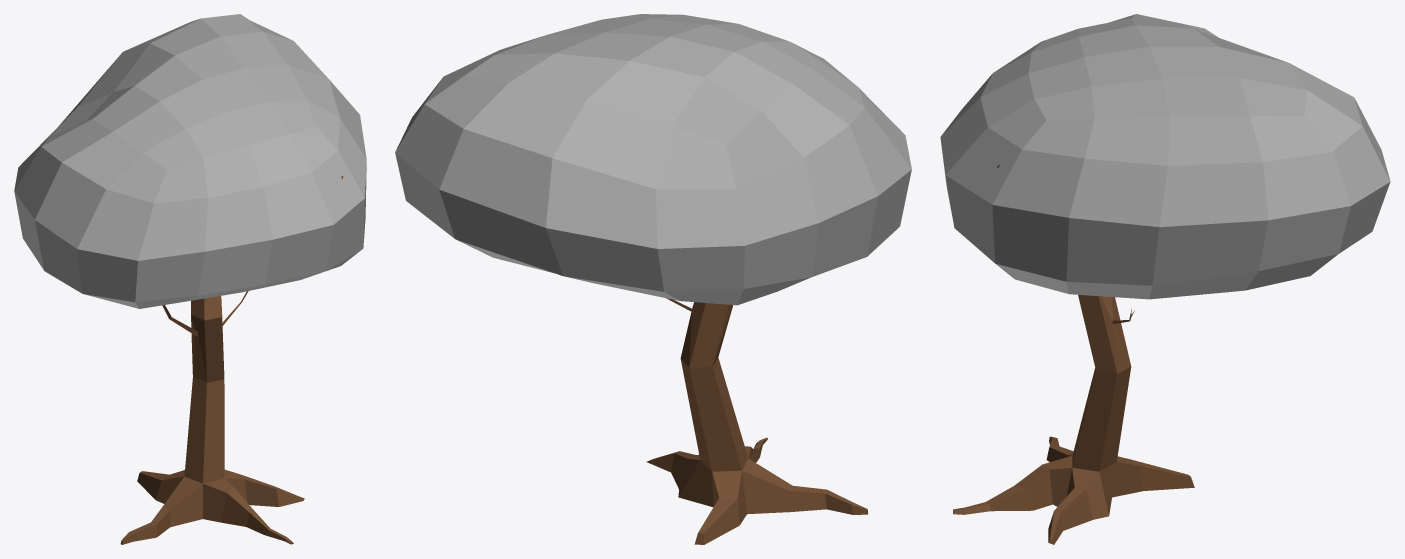
Rendered from Tree_and_Texture_mesh.fbx.
3 views of the same model, side by side, from view 1: azimuth 30°, elevation 25°; view 2: azimuth 150°, elevation 25°; view 3: azimuth 270°, elevation 25° (orthographic). The views are drawn at different scales.
Visible parts, largest first — view 1: Cube, Cylinder.001; view 2: Cube, Cylinder.001; view 3: Cube, Cylinder.001.
Part boxes in pixels (box(x1,y1,x2,y2)): Cube: box(14, 14, 366, 308); Cylinder.001: box(120, 175, 343, 544); Cube: box(395, 14, 911, 305); Cylinder.001: box(646, 298, 868, 544); Cube: box(940, 14, 1390, 299); Cylinder.001: box(953, 165, 1194, 544).
Bounding box in the file's own units: 406 × 466 × 409.
